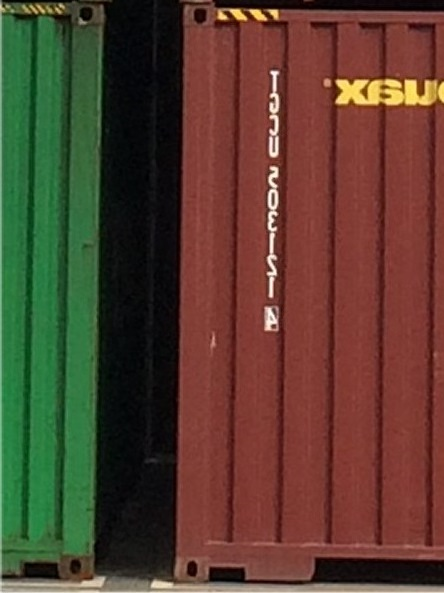container_no_door: (175, 9, 443, 580)
